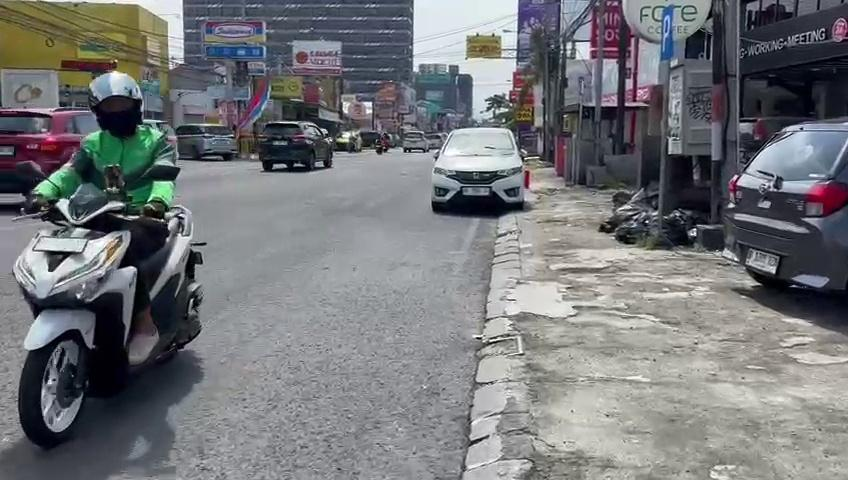helm: (83, 68, 149, 139)
riding: (7, 61, 213, 455)
